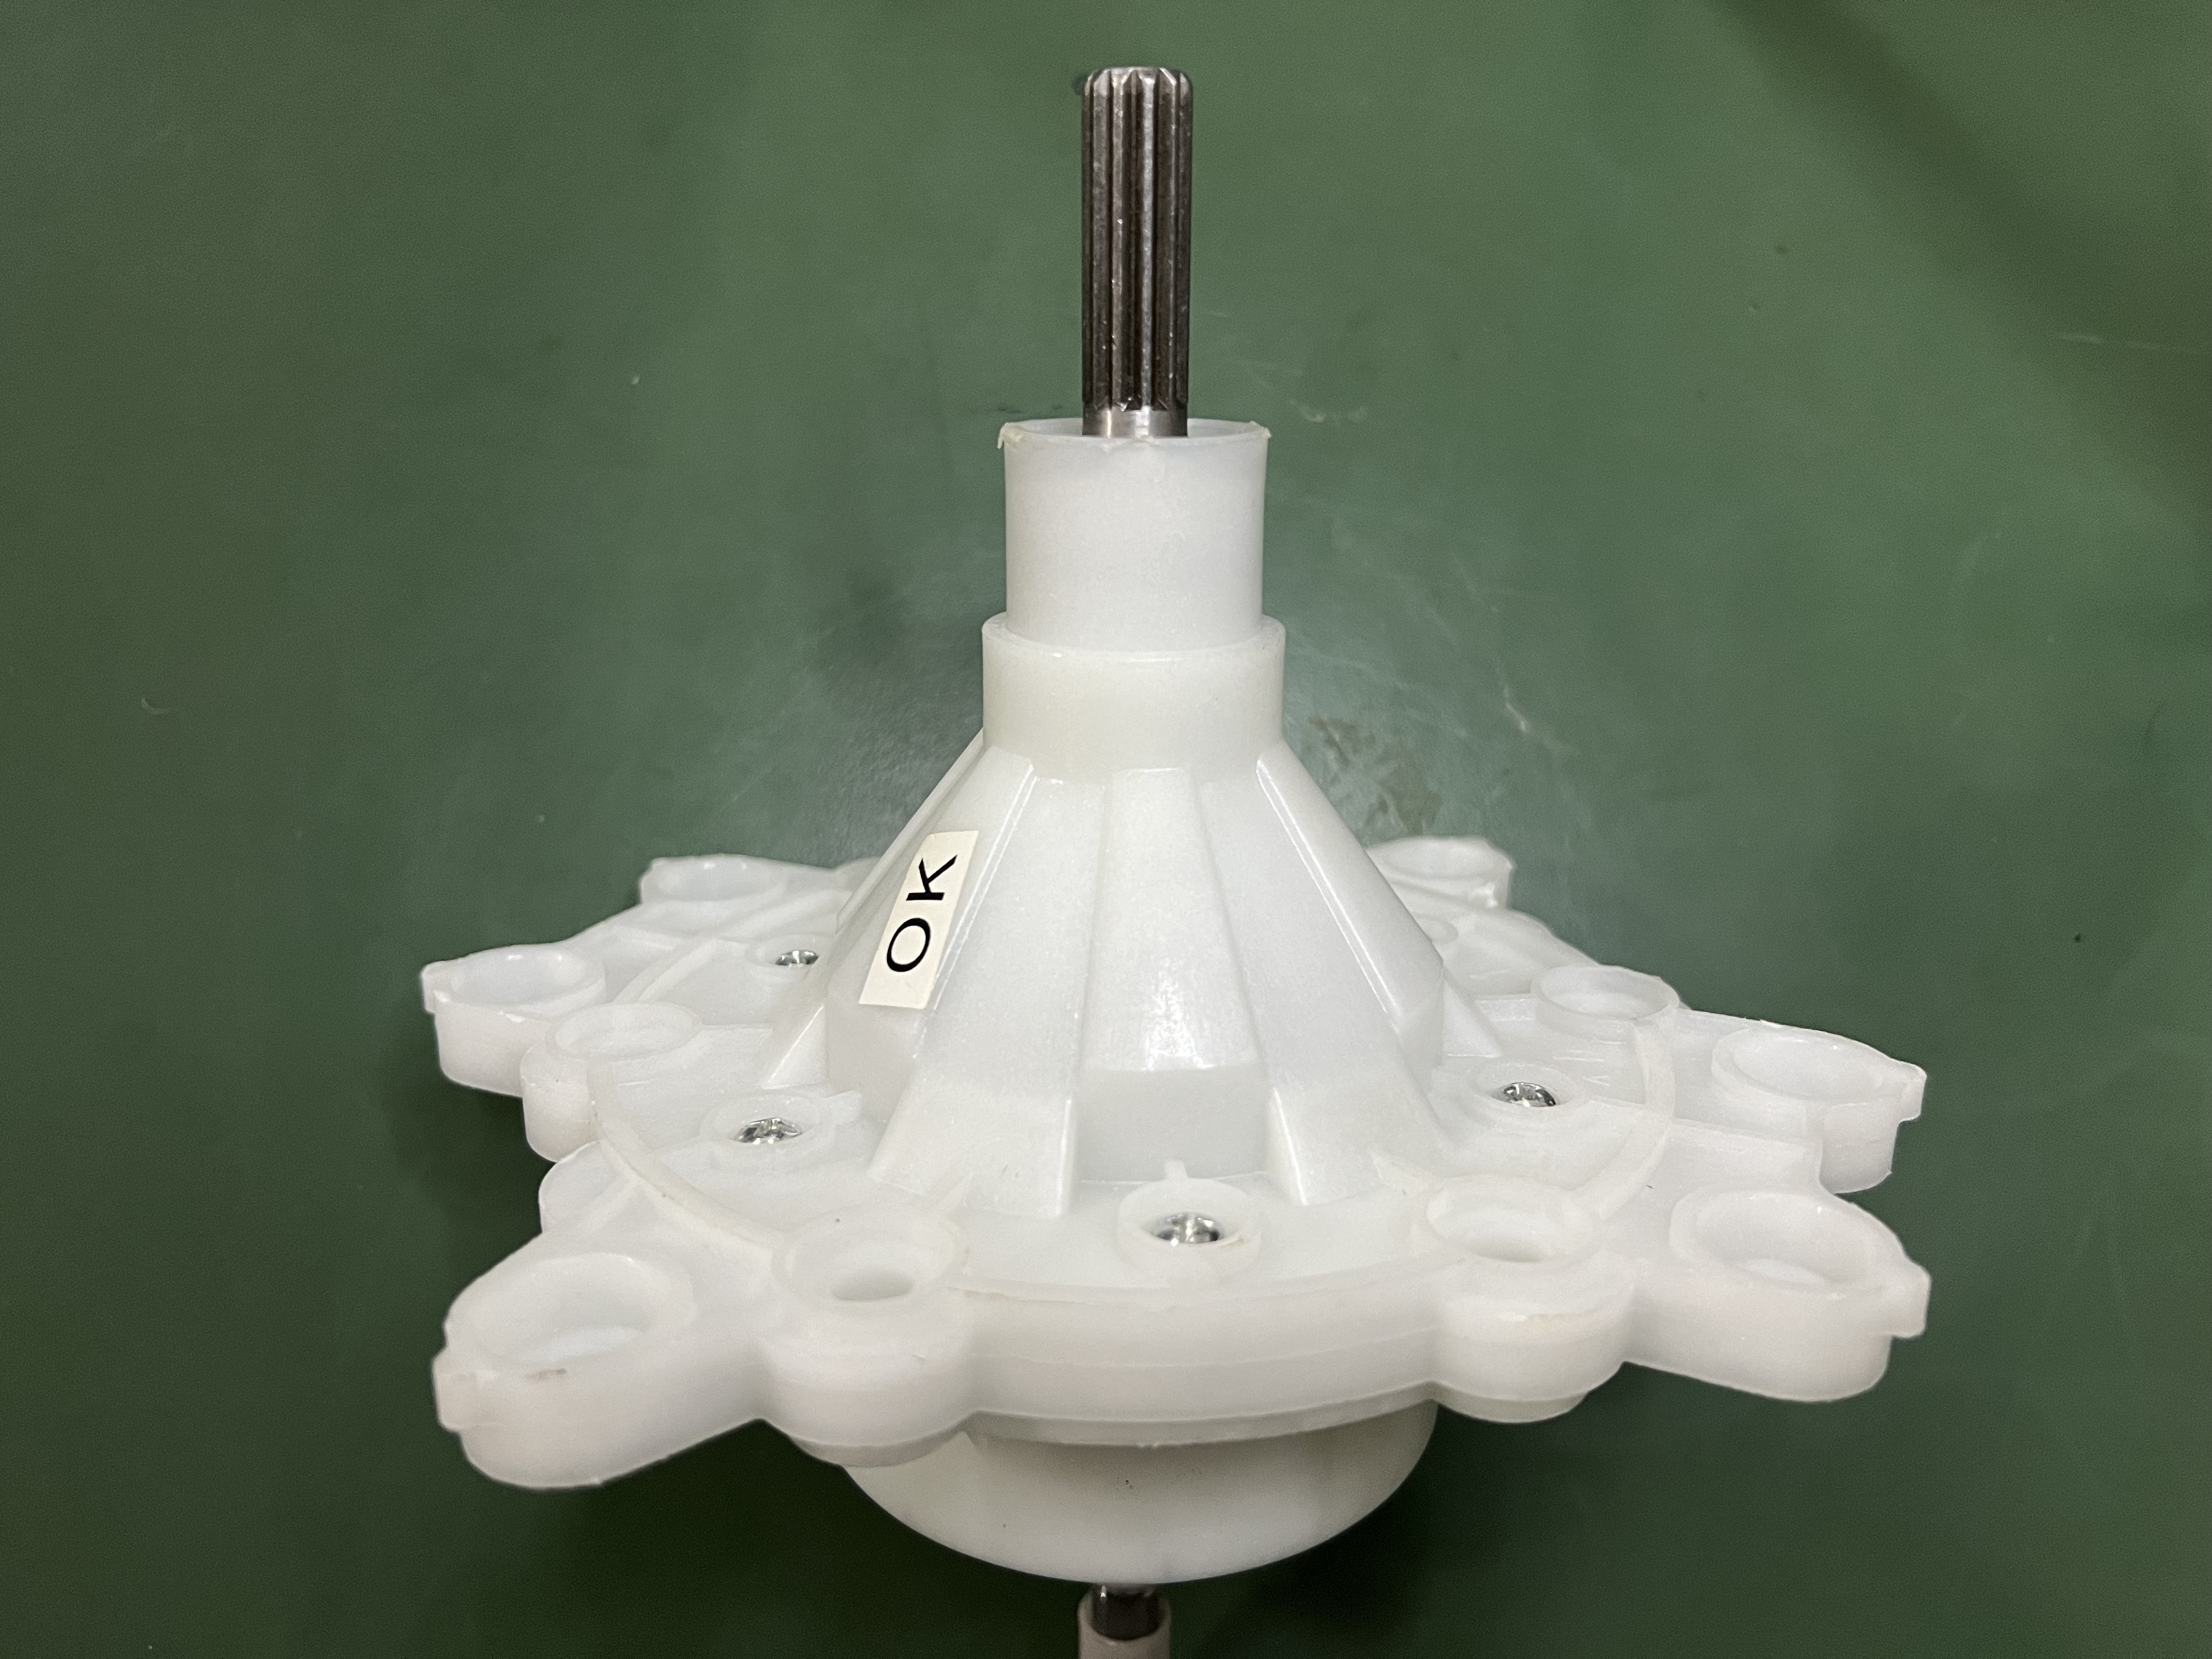gear_box_design: (387, 68, 1932, 1561)
